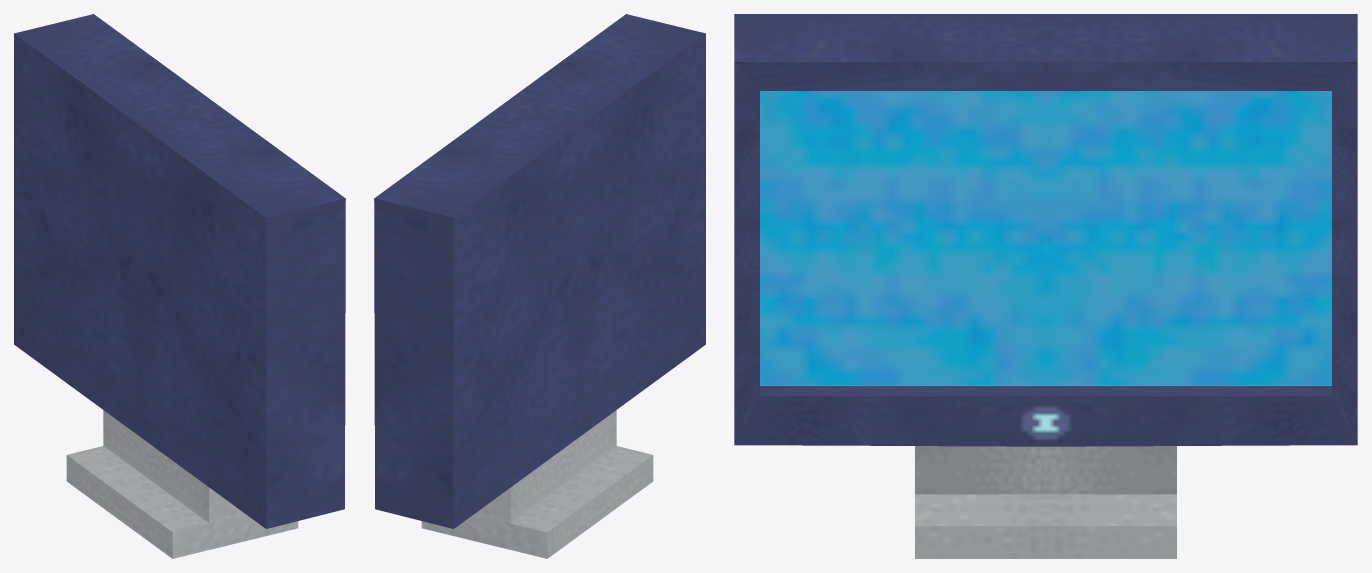
Rendered from ivorypc.glb.
The picture shows the model from 3 angles, left to right: view 1: azimuth 30°, elevation 25°; view 2: azimuth 150°, elevation 25°; view 3: azimuth 270°, elevation 25°; orthographic projection. The views are drawn at different scales.
Visible parts, largest first — view 1: Cube.001; view 2: Cube.001; view 3: Cube.001.
Boxes of the visible parts, bbox=[...] form: Cube.001: bbox=[14, 14, 345, 558]; Cube.001: bbox=[374, 14, 705, 558]; Cube.001: bbox=[734, 14, 1357, 558].
Size of the model in its own units: 0.2971 by 0.8794 by 1.03.
Materials: 1 (1 with a texture image).
